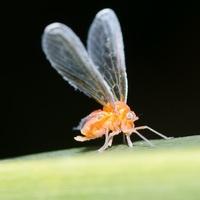insect: (42, 8, 170, 151)
